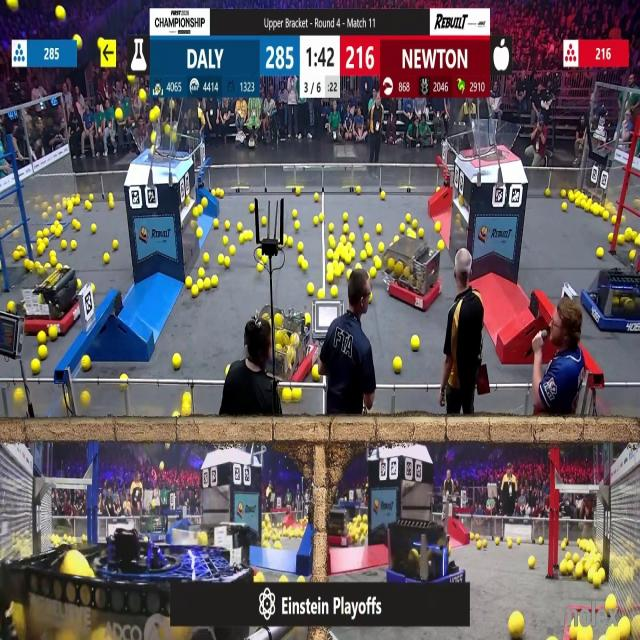ball_airborne: (149, 108, 157, 121), (58, 6, 66, 19), (7, 0, 17, 10), (139, 90, 146, 102), (115, 109, 122, 120), (76, 36, 82, 48), (150, 133, 155, 144), (165, 127, 171, 135), (129, 74, 135, 82), (161, 462, 165, 470)
ball_ground: (508, 615, 522, 640), (605, 595, 615, 612), (200, 533, 210, 548), (81, 355, 90, 370), (573, 565, 583, 578), (38, 346, 47, 360), (32, 358, 41, 372), (80, 392, 89, 406), (412, 337, 420, 352), (567, 561, 575, 576), (291, 388, 300, 401), (393, 357, 401, 371), (174, 354, 182, 368), (312, 365, 320, 379), (594, 573, 602, 587), (48, 326, 56, 339), (283, 388, 291, 401), (308, 282, 316, 294), (38, 333, 46, 345), (204, 278, 212, 290), (182, 406, 190, 418), (560, 563, 568, 575), (569, 628, 577, 640), (254, 572, 263, 582), (317, 288, 325, 299), (26, 261, 34, 272), (330, 285, 337, 297), (365, 246, 372, 258), (593, 204, 600, 216), (50, 253, 56, 266), (528, 557, 535, 568), (326, 273, 333, 284), (191, 285, 197, 297), (618, 236, 626, 245), (388, 260, 394, 272), (626, 230, 632, 242), (197, 207, 205, 216), (589, 571, 595, 583), (185, 277, 192, 287), (597, 248, 604, 258), (61, 240, 68, 250), (37, 245, 44, 255), (602, 210, 609, 220), (212, 276, 218, 287), (223, 256, 229, 267), (326, 249, 332, 260), (360, 250, 366, 261), (376, 257, 382, 268), (280, 575, 288, 583), (259, 216, 266, 225), (349, 234, 356, 243), (213, 219, 220, 228), (104, 252, 110, 262), (369, 268, 375, 278), (418, 230, 424, 240), (440, 241, 446, 251), (296, 243, 302, 253), (199, 269, 205, 279), (346, 254, 352, 264), (8, 302, 14, 312), (195, 229, 201, 239), (379, 243, 385, 253), (286, 238, 292, 248), (306, 314, 312, 324), (303, 262, 309, 272), (264, 254, 270, 264), (630, 250, 636, 260), (328, 238, 334, 248), (198, 279, 204, 289), (239, 234, 245, 244), (350, 249, 356, 259), (412, 230, 418, 240), (413, 219, 419, 229), (13, 251, 19, 261), (341, 236, 348, 244), (572, 554, 579, 562), (204, 253, 210, 262), (218, 254, 224, 263), (562, 203, 568, 212), (293, 220, 299, 229), (231, 246, 237, 255), (297, 255, 303, 264), (249, 204, 255, 213), (407, 215, 413, 224), (343, 213, 349, 222), (336, 269, 342, 278), (108, 201, 114, 210), (87, 202, 93, 211), (192, 208, 198, 217), (74, 198, 80, 207), (326, 263, 332, 272), (71, 241, 76, 251), (435, 221, 440, 231), (399, 222, 404, 232), (377, 223, 382, 233), (328, 222, 333, 232), (224, 220, 229, 230), (347, 270, 352, 280), (256, 248, 261, 258), (297, 575, 304, 582), (237, 222, 243, 230), (120, 374, 126, 382), (275, 541, 281, 549), (475, 540, 481, 548), (574, 200, 580, 208), (43, 230, 49, 238), (56, 230, 62, 238), (93, 223, 98, 232), (75, 221, 80, 230), (112, 241, 117, 250), (364, 234, 369, 243), (314, 216, 319, 225), (344, 223, 349, 232), (611, 214, 616, 223), (358, 217, 363, 226), (203, 199, 208, 208), (222, 237, 227, 246), (218, 188, 223, 197), (568, 190, 573, 199), (68, 207, 74, 214), (108, 192, 114, 199), (517, 537, 523, 544), (257, 265, 262, 273), (315, 192, 320, 200), (292, 210, 297, 218), (544, 188, 549, 196), (90, 192, 95, 200), (356, 264, 361, 272), (248, 232, 253, 240), (561, 188, 566, 196), (507, 539, 512, 547), (319, 214, 324, 222), (76, 280, 81, 288), (608, 234, 612, 243), (484, 539, 488, 548), (381, 191, 386, 198), (495, 537, 500, 544), (356, 186, 361, 193), (265, 540, 270, 547), (394, 236, 398, 244), (538, 536, 542, 544), (295, 187, 299, 195), (472, 536, 476, 544), (58, 212, 62, 220), (561, 542, 566, 548), (368, 294, 371, 302)
goal: (466, 122, 522, 160)
robot_blue: (387, 519, 456, 596), (588, 270, 640, 332)
robot_red: (259, 307, 315, 382), (22, 261, 79, 334), (386, 240, 442, 311)
